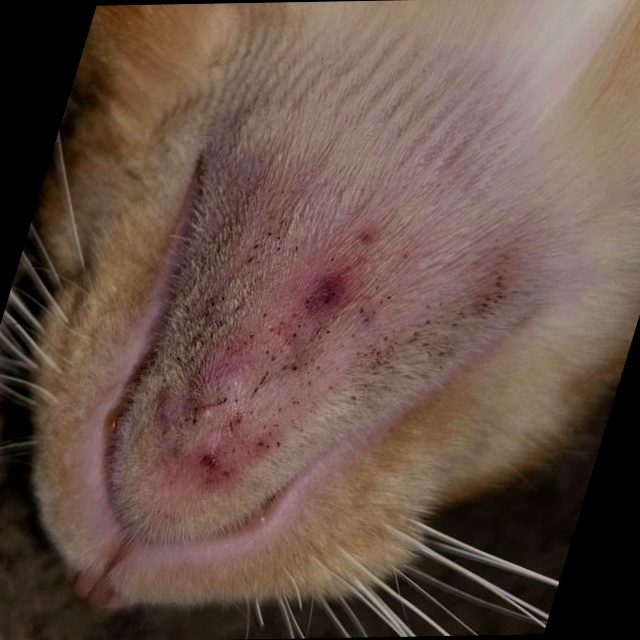acne: (119, 209, 550, 483)
